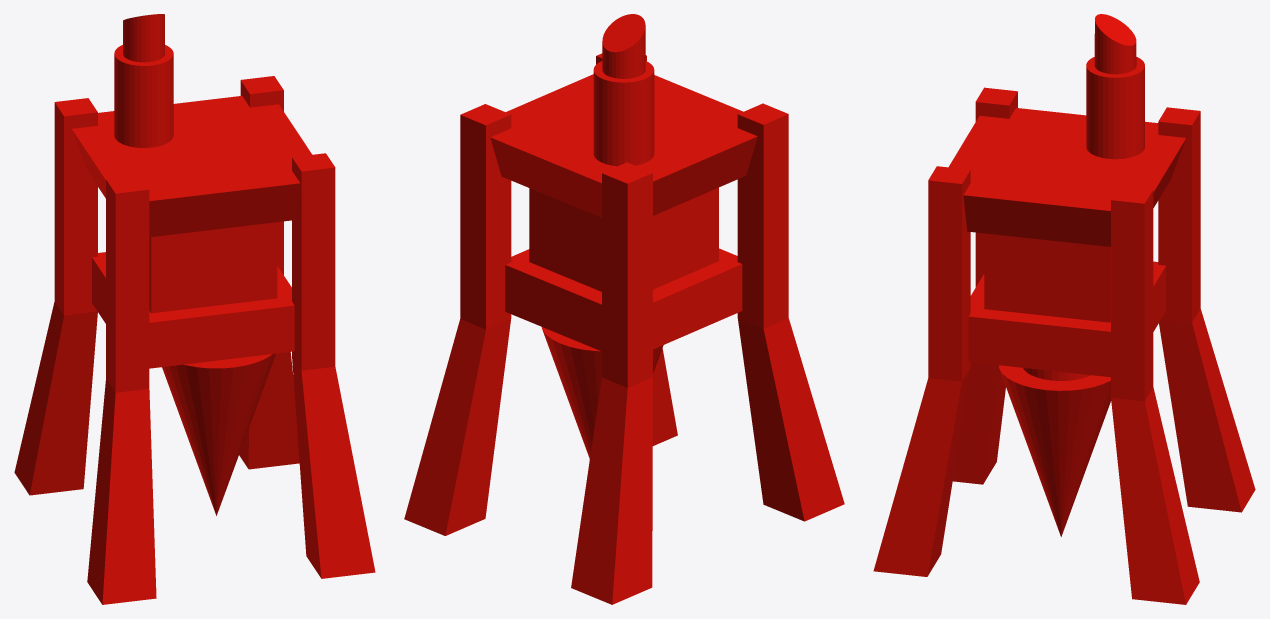
3 renders of one model, left to right at view 1: azimuth 30°, elevation 25°; view 2: azimuth 150°, elevation 25°; view 3: azimuth 270°, elevation 25°, orthographic. The views are drawn at different scales.
Parts seen in each view (by area): view 1: Drill; view 2: Drill; view 3: Drill.
Part boxes in pixels (left/top/right/bottom): Drill: left=14, top=14, right=375, bottom=604; Drill: left=404, top=14, right=844, bottom=604; Drill: left=873, top=14, right=1255, bottom=604.
Bounding box in the file's own units: 1717 × 2686 × 1862.
